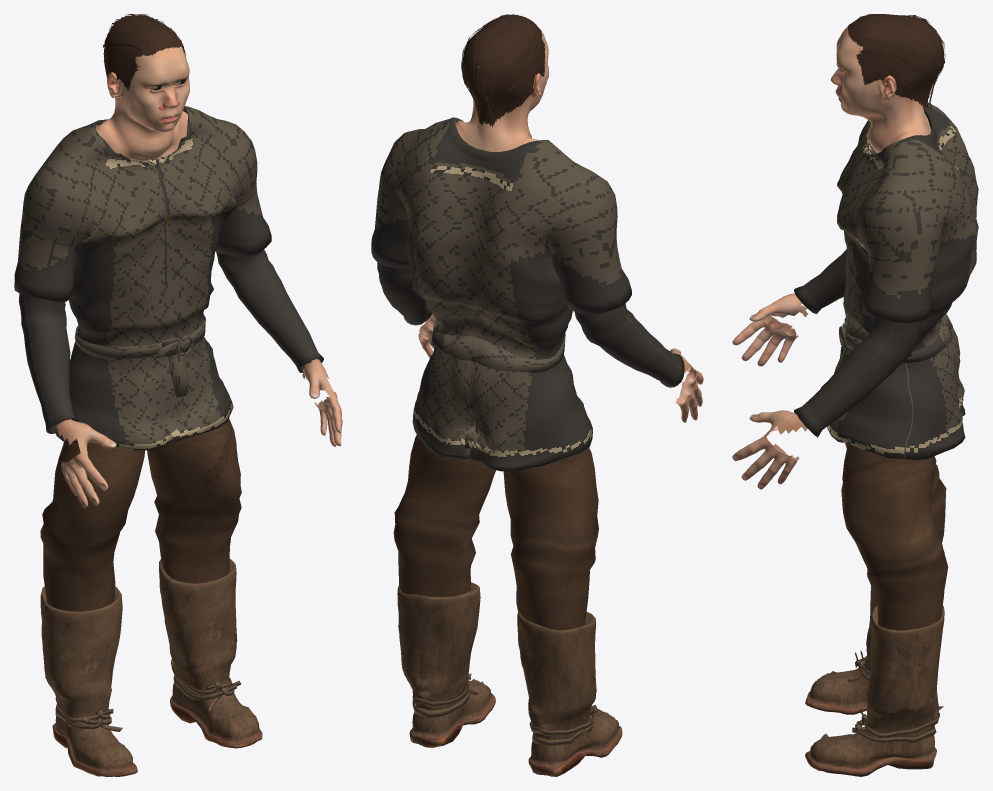
Rendered from armor-field-tunic.glb.
The picture shows the model from 3 angles, left to right: view 1: azimuth 30°, elevation 25°; view 2: azimuth 150°, elevation 25°; view 3: azimuth 270°, elevation 25°; orthographic projection.
Visible parts, largest first — view 1: armor-field-tunic runtime mesh; view 2: armor-field-tunic runtime mesh; view 3: armor-field-tunic runtime mesh.
Boxes of the visible parts, x1,y1,x2,y2 form: armor-field-tunic runtime mesh: [14, 14, 342, 776]; armor-field-tunic runtime mesh: [371, 14, 703, 776]; armor-field-tunic runtime mesh: [732, 14, 978, 776].
Size of the model in its own units: 0.7467 by 1.85 by 0.5745.
8 materials, 7 textured.
